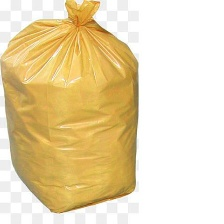plastic_bag: (0, 0, 145, 215)
